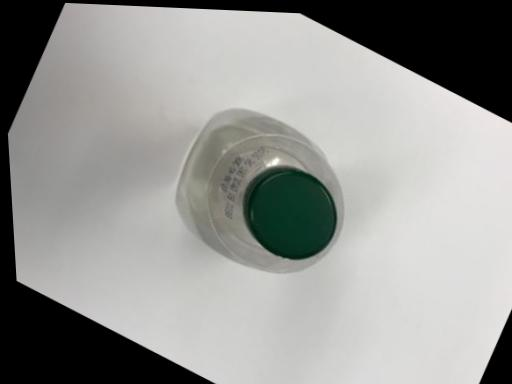plastic: (176, 109, 341, 272)
